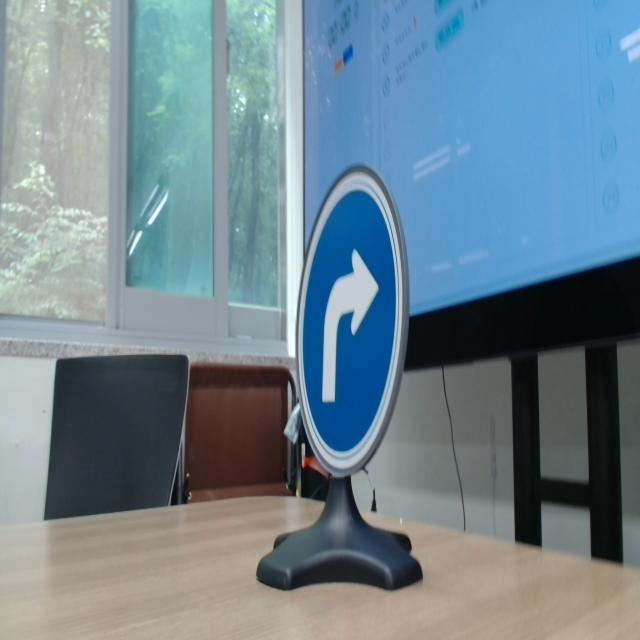right_dierection: (288, 138, 420, 492)
